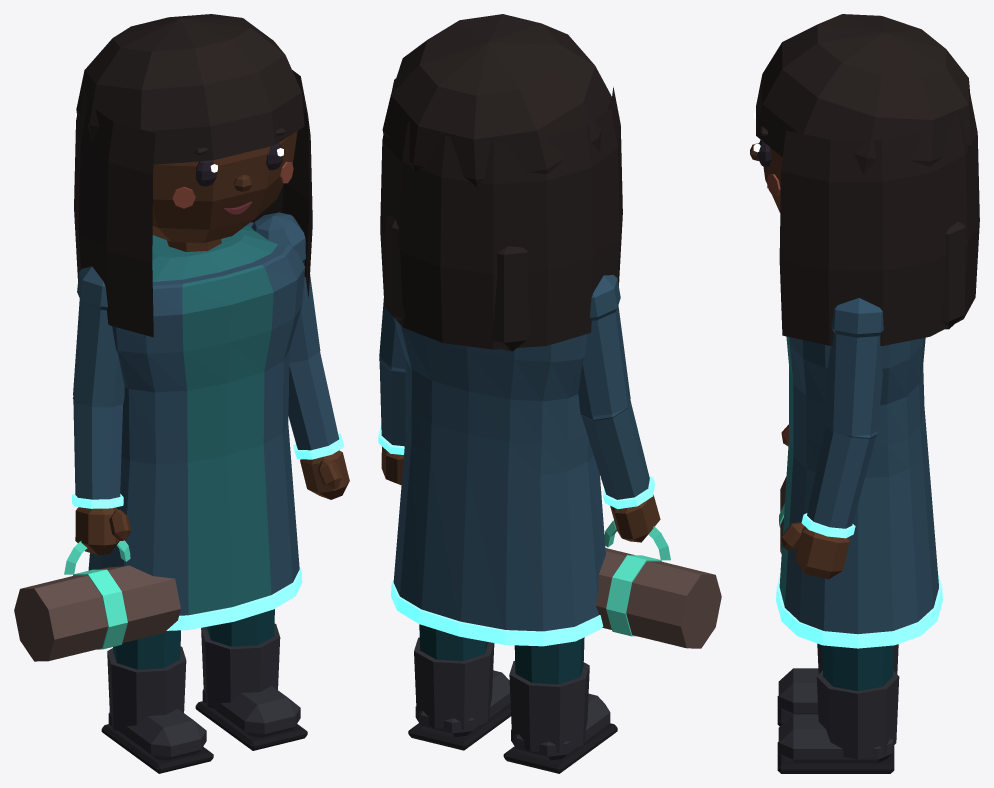
Rendered from spo-k3.glb.
The picture shows the model from 3 angles, left to right: view 1: azimuth 30°, elevation 25°; view 2: azimuth 150°, elevation 25°; view 3: azimuth 270°, elevation 25°; orthographic projection.
Visible parts, largest first — view 1: mantel, haare, gegenstand_travelbag, arm_r, schuh_r, schuh_l, kopf, arm_l, torso, hand_r, gesicht, leuchtsaum (+3 smaller); view 2: haare, mantel, gegenstand_travelbag, arm_r, schuh_r, schuh_l, leuchtsaum, arm_l, bein_r, bein_l, hand_r, hand_l; view 3: haare, mantel, arm_l, schuh_l, bein_l, leuchtsaum, hand_l, schuh_r, gesicht, kopf.
Boxes of the visible parts, x1,y1,x2,y2 form: mantel: (88, 222, 305, 615); haare: (74, 14, 312, 337); gegenstand_travelbag: (14, 540, 180, 661); arm_r: (72, 266, 124, 508); schuh_r: (101, 646, 213, 773); schuh_l: (195, 623, 307, 750); kopf: (152, 131, 297, 242); arm_l: (251, 212, 344, 459); torso: (152, 226, 277, 281); hand_r: (75, 507, 131, 555); gesicht: (172, 128, 293, 214); leuchtsaum: (166, 567, 302, 630); haare: (380, 14, 622, 351); mantel: (393, 318, 605, 631); gegenstand_travelbag: (595, 520, 721, 648); arm_r: (578, 275, 654, 508); schuh_r: (503, 661, 617, 773); schuh_l: (408, 637, 510, 750); leuchtsaum: (391, 580, 603, 646); arm_l: (378, 298, 405, 454); bein_r: (514, 637, 584, 684); bein_l: (419, 624, 488, 660); hand_r: (610, 495, 660, 542); hand_l: (381, 446, 403, 485); haare: (756, 14, 979, 345); mantel: (779, 336, 938, 634); arm_l: (801, 298, 883, 538); schuh_l: (777, 670, 899, 773); bein_l: (822, 645, 893, 690); leuchtsaum: (776, 572, 942, 648); hand_l: (781, 522, 849, 579); schuh_r: (777, 643, 898, 726); gesicht: (750, 111, 780, 195); kopf: (760, 139, 782, 212).
Size of the model in its own units: 0.0128 by 0.0274 by 0.0081.
